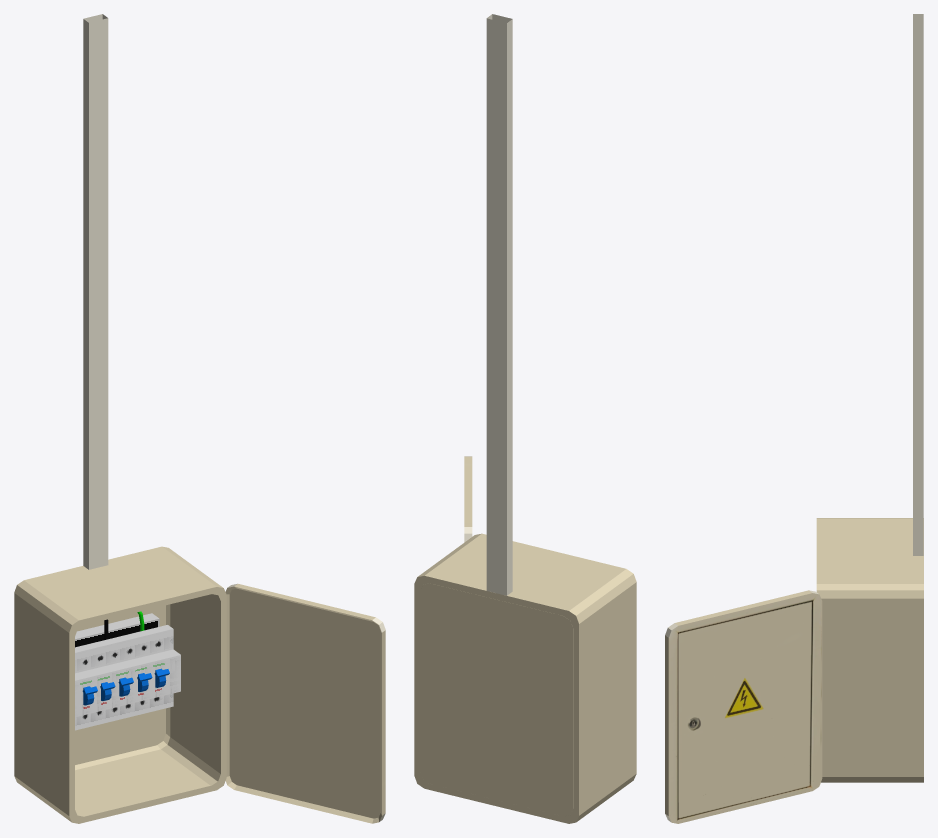
The model's file is fuse_box.glb.
3 renders of one model, left to right at view 1: azimuth 30°, elevation 25°; view 2: azimuth 150°, elevation 25°; view 3: azimuth 270°, elevation 25°, orthographic. The views are drawn at different scales.
Visible parts, largest first — view 1: Cube, Cube.001, Cube.003, Cube.002; view 2: Cube, Cube.003, Cube.001; view 3: Cube.001, Cube, Cube.003.
Boxes of the visible parts, box(x1,y1,x2,y2) form: Cube: box(14, 546, 226, 823); Cube.001: box(225, 583, 385, 823); Cube.003: box(83, 14, 108, 569); Cube.002: box(75, 613, 180, 730); Cube: box(414, 533, 636, 823); Cube.003: box(486, 14, 512, 595); Cube.001: box(464, 456, 472, 542); Cube.001: box(665, 590, 822, 823); Cube: box(816, 518, 923, 782); Cube.003: box(913, 14, 923, 555).
Size of the model in its own units: 2.48 by 7.38 by 2.37.
Materials: 12 (3 with a texture image).
